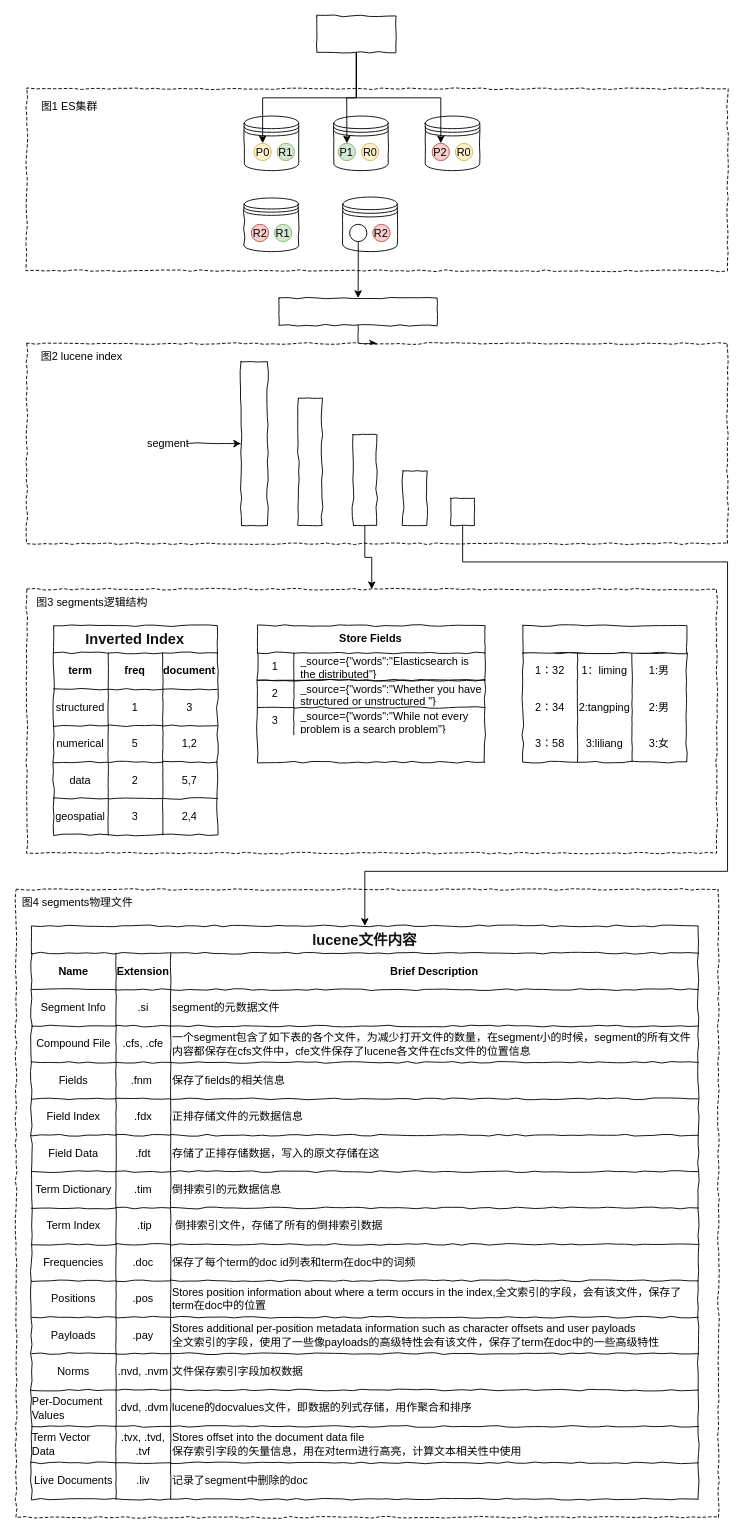
Image size: 751x1533. Some labels were removed from this diagram. Each missing label, with the centre of its shape:
"Document Values" belongs at point (604, 639).
"elasticsearch index" belongs at point (356, 33).
"shard/lucene index" belongs at point (357, 311).
